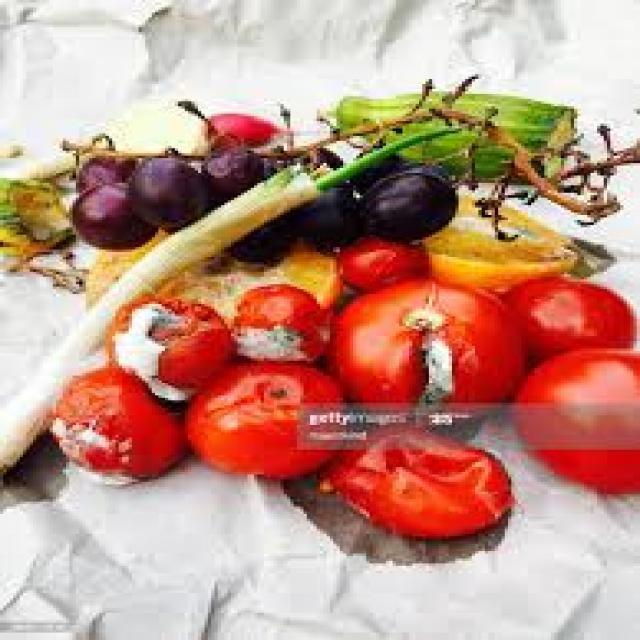organic waste: (0, 121, 472, 482), (323, 269, 524, 420), (79, 220, 340, 334), (327, 91, 570, 193), (317, 423, 511, 536), (175, 364, 343, 479), (40, 361, 188, 487), (508, 346, 637, 489), (419, 195, 610, 289), (99, 296, 231, 401), (498, 272, 637, 366), (231, 279, 330, 361), (0, 173, 73, 272), (356, 166, 456, 237), (126, 148, 204, 228), (327, 232, 422, 294), (69, 180, 152, 247), (287, 178, 356, 245), (221, 200, 284, 262), (195, 148, 264, 200), (192, 109, 280, 146), (63, 156, 132, 195)
